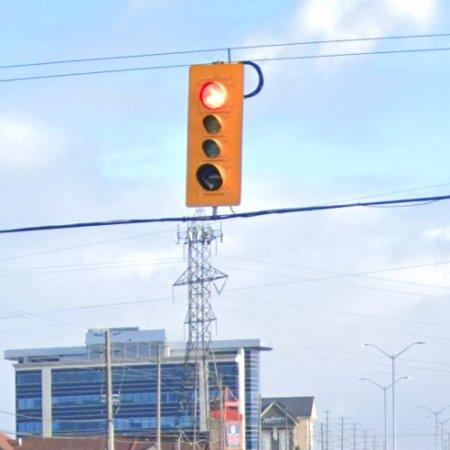traffic lights: (186, 63, 244, 207)
